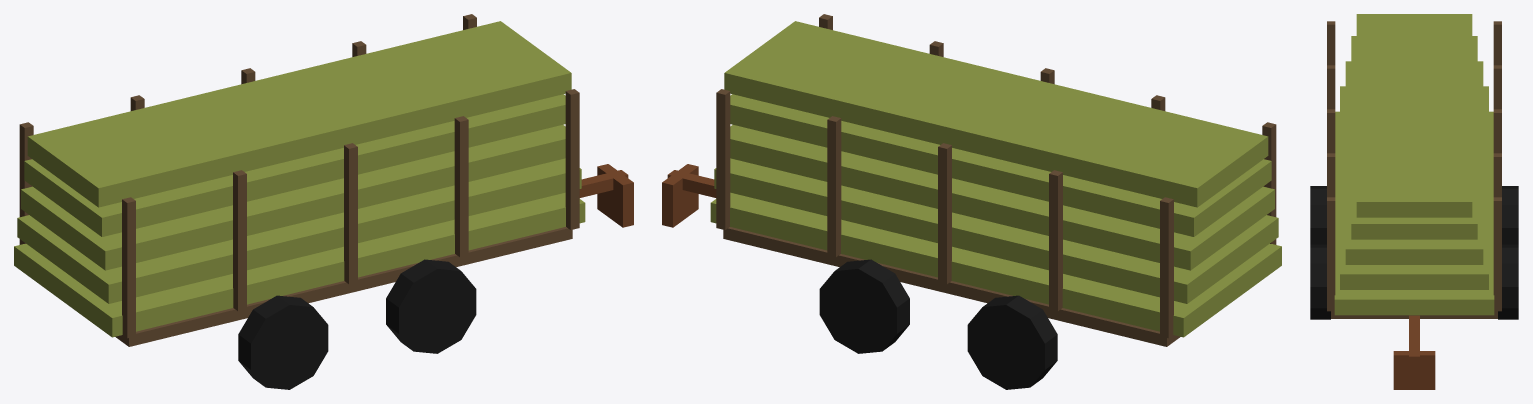
File: carreta_cana.glb
3 renders of one model, left to right at view 1: azimuth 30°, elevation 25°; view 2: azimuth 150°, elevation 25°; view 3: azimuth 270°, elevation 25°, orthographic. The views are drawn at different scales.
Parts seen in each view (by area): view 1: carreta_cana; view 2: carreta_cana; view 3: carreta_cana.
Part boxes in pixels (left/top/right/bottom): carreta_cana: left=14, top=14, right=633, bottom=389; carreta_cana: left=662, top=14, right=1281, bottom=389; carreta_cana: left=1310, top=14, right=1518, bottom=389.
Size of the model in its own units: 7.6 by 2.85 by 3.
